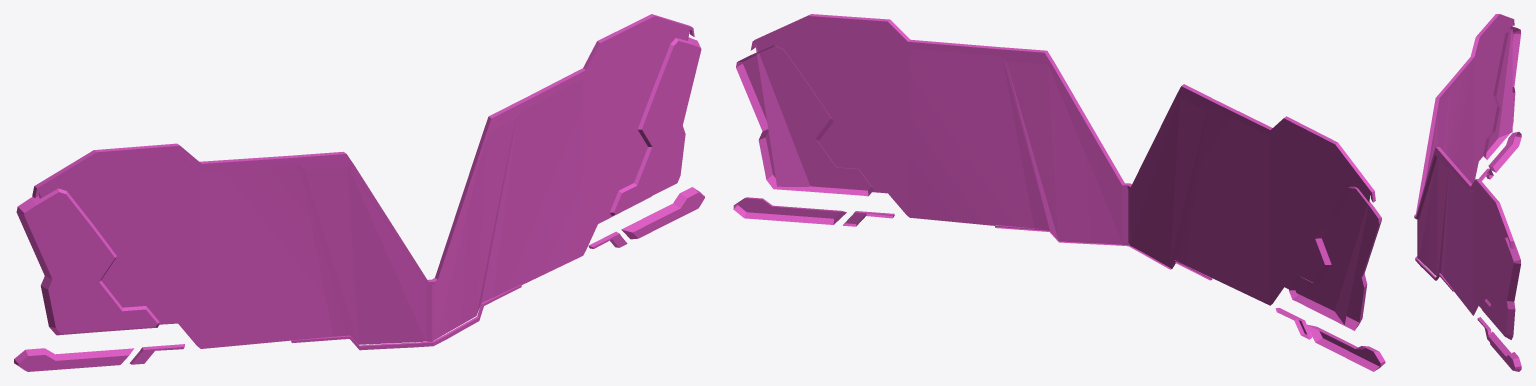
File: FX_MESH_Chesd_pan_01.fbx
3 views of the same model, side by side, from view 1: azimuth 30°, elevation 25°; view 2: azimuth 150°, elevation 25°; view 3: azimuth 270°, elevation 25° (orthographic). The views are drawn at different scales.
Parts seen in each view (by area): view 1: FX_MESH_Chesd_pan_01; view 2: FX_MESH_Chesd_pan_01; view 3: FX_MESH_Chesd_pan_01.
Part boxes in pixels (left/top/right/bottom): FX_MESH_Chesd_pan_01: left=14, top=14, right=704, bottom=371; FX_MESH_Chesd_pan_01: left=733, top=14, right=1385, bottom=371; FX_MESH_Chesd_pan_01: left=1414, top=14, right=1521, bottom=371.
Bounding box in the file's own units: 8.9 × 2.72 × 1.74.
